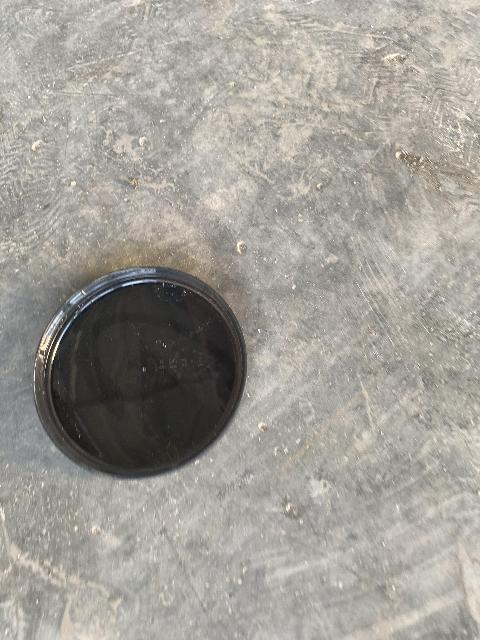Plastik: (32, 265, 249, 479)
